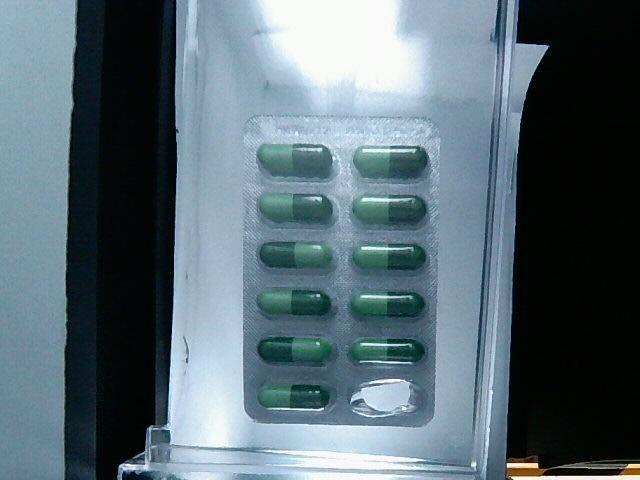Light Front: (240, 116, 441, 427)
No Pill Front: (350, 379, 416, 417)
Pill Front: (351, 194, 427, 225), (258, 194, 333, 225), (354, 146, 427, 177), (351, 243, 427, 272), (256, 144, 334, 172), (349, 337, 426, 364), (256, 336, 332, 363), (349, 290, 424, 316), (257, 289, 330, 315), (257, 242, 331, 267), (257, 385, 330, 410)
